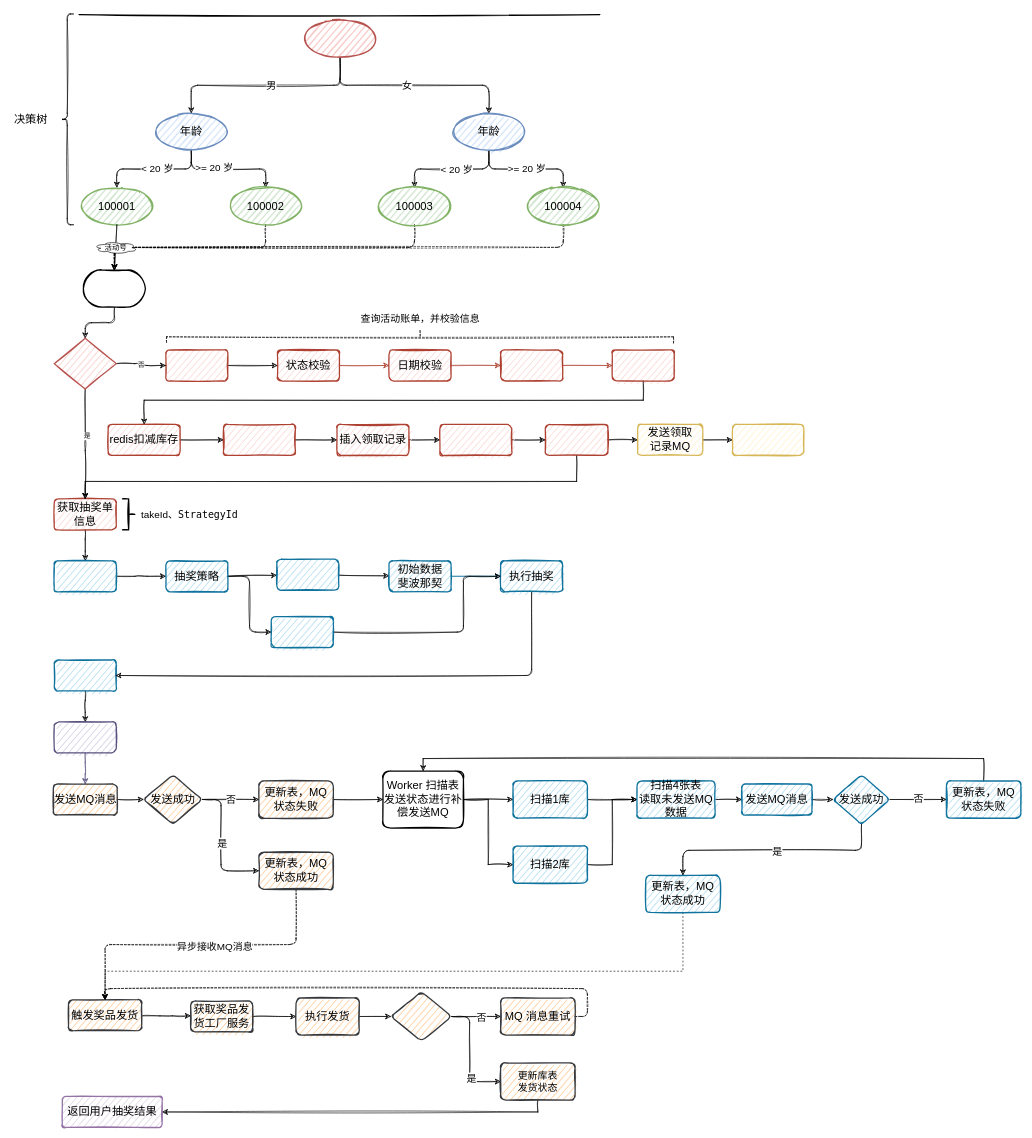
The diagram is 1032 pixels wide and 1138 high, and some of its shapes have lost their labels. The centre of each missing label's shape, as x and y in pixels:
"分布式锁 （库存滑块）" goes at (259,439).
"删除库存锁Key" goes at (475,439).
"单项概率" goes at (307,574).
"参与抽奖" goes at (85,576).
"参与次数" goes at (643,365).
"发货成功" goes at (421,1016).
"奖品落库" goes at (85,737).
"库存校验(总)" goes at (531,365).
"异步更新库存" goes at (768,439).
"性别" goes at (340,38).
"总体概率" goes at (302,632).
"抽奖结果 奖品ID🏅" goes at (85,675).
"是否存在 未执行 抽奖单" goes at (85,363).
"活动开始" goes at (114,288).
"领取完成" goes at (576,439).
"领取活动" goes at (196,365).
